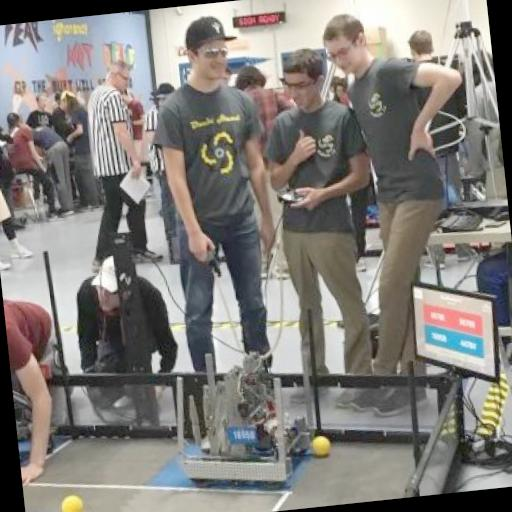robot: (158, 336, 336, 498)
